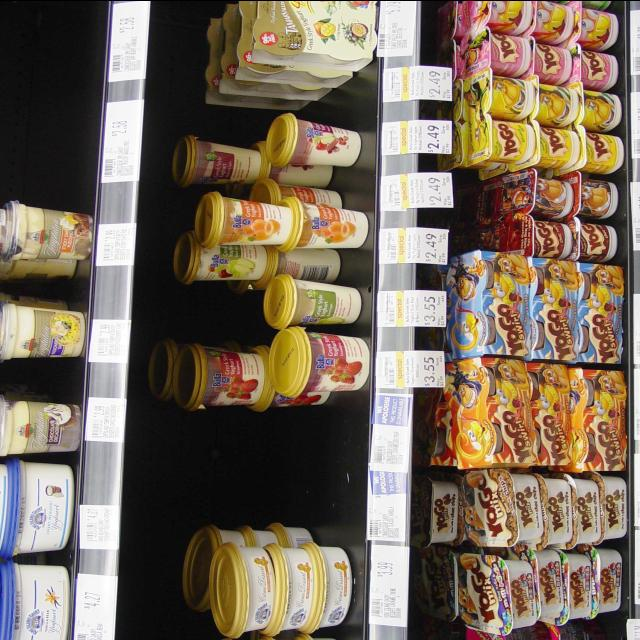empty_space: (166, 419, 338, 515), (14, 0, 87, 189)
